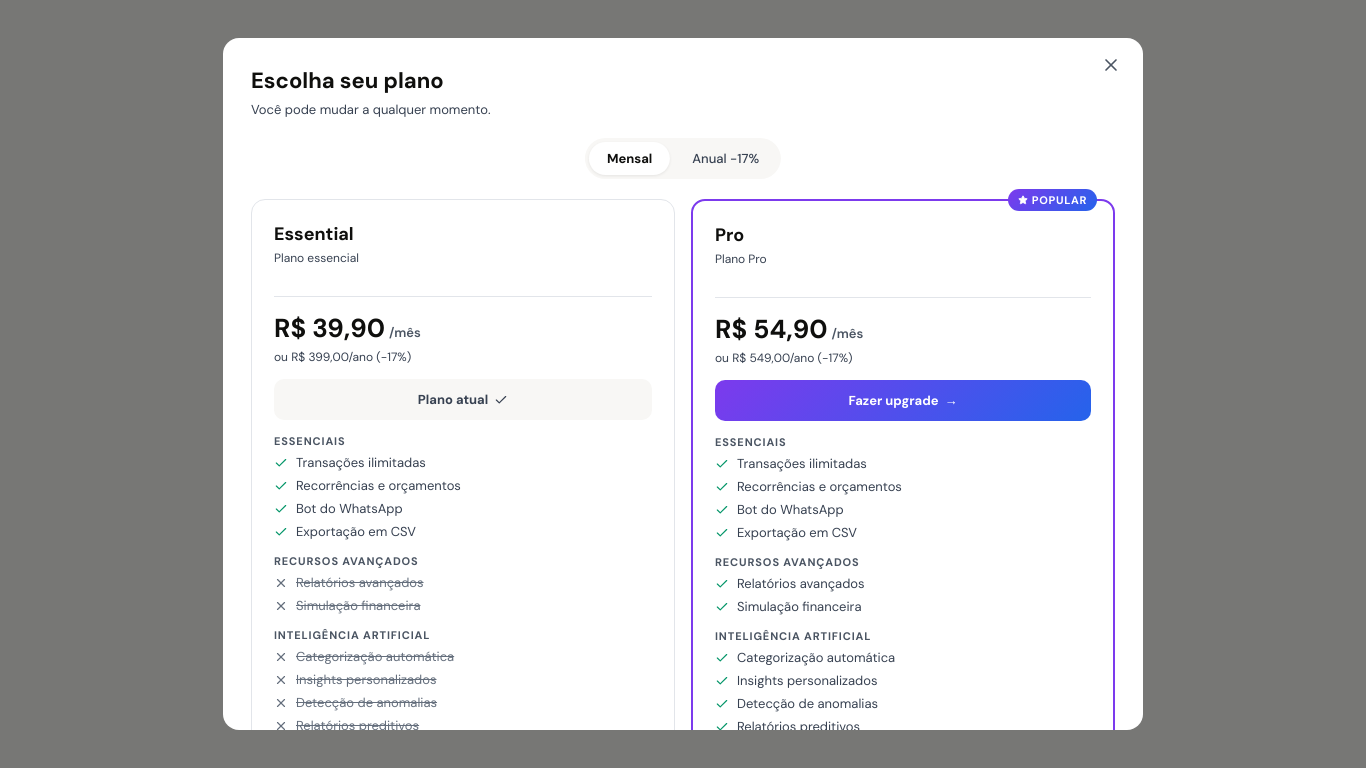
Scenario: <PlansComparisonModal> › opens the CPF dialog when the backend signals cpf_required
The image size is (1366, 768).
Click the button with test id "plan-select-pro".
click(903, 401)  # box [715,380,1091,421]
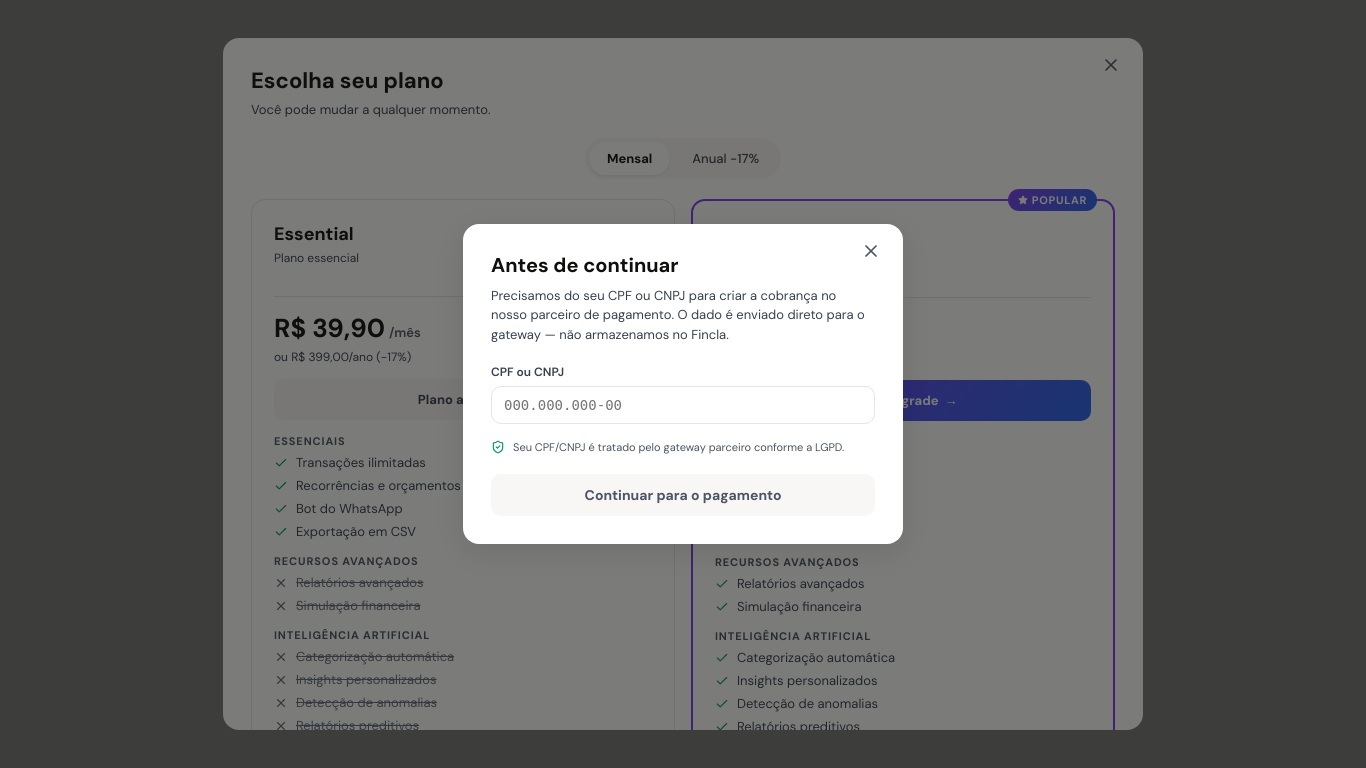
Expected: the dialog named "informe seu cpf" is shown
